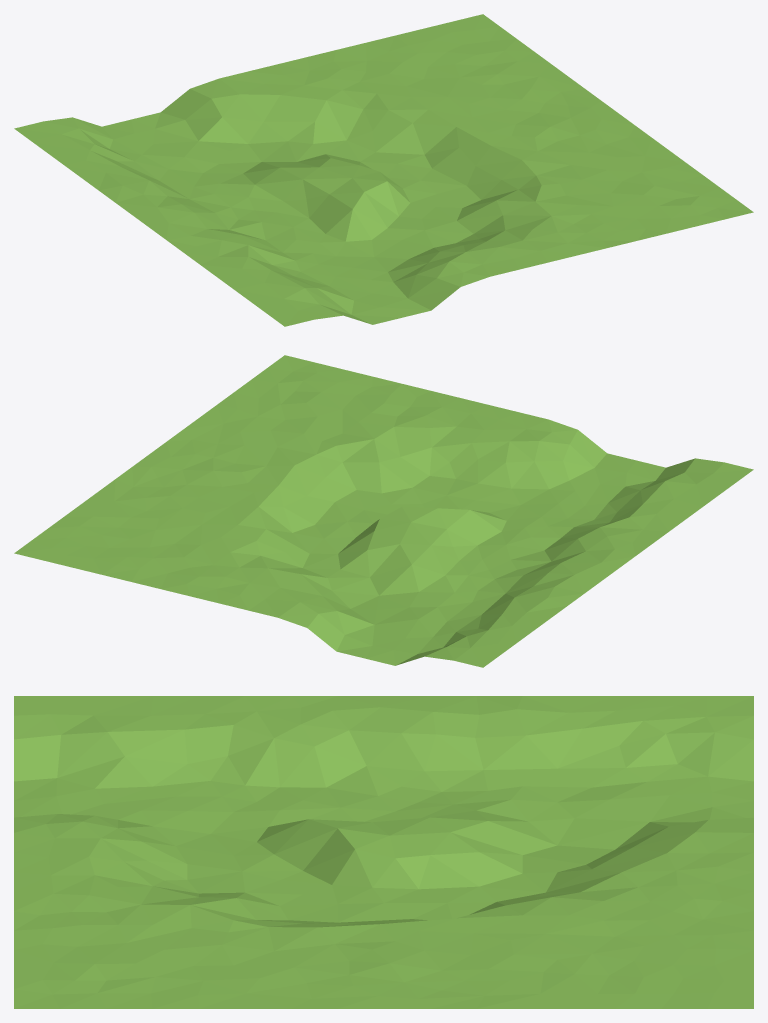
Rendered from MT_River_M_a_03.fbx.
The picture shows the model from 3 angles, top to bottom: view 1: azimuth 30°, elevation 25°; view 2: azimuth 150°, elevation 25°; view 3: azimuth 270°, elevation 25°; orthographic projection. The views are drawn at different scales.
Visible parts, largest first — view 1: MT_River_M_a_03; view 2: MT_River_M_a_03; view 3: MT_River_M_a_03.
Part boxes in pixels (x1,y1,x2,y2): MT_River_M_a_03: [14, 14, 753, 326]; MT_River_M_a_03: [14, 355, 753, 667]; MT_River_M_a_03: [14, 696, 753, 1008].
Size of the model in its own units: 5000 by 251 by 5000.
